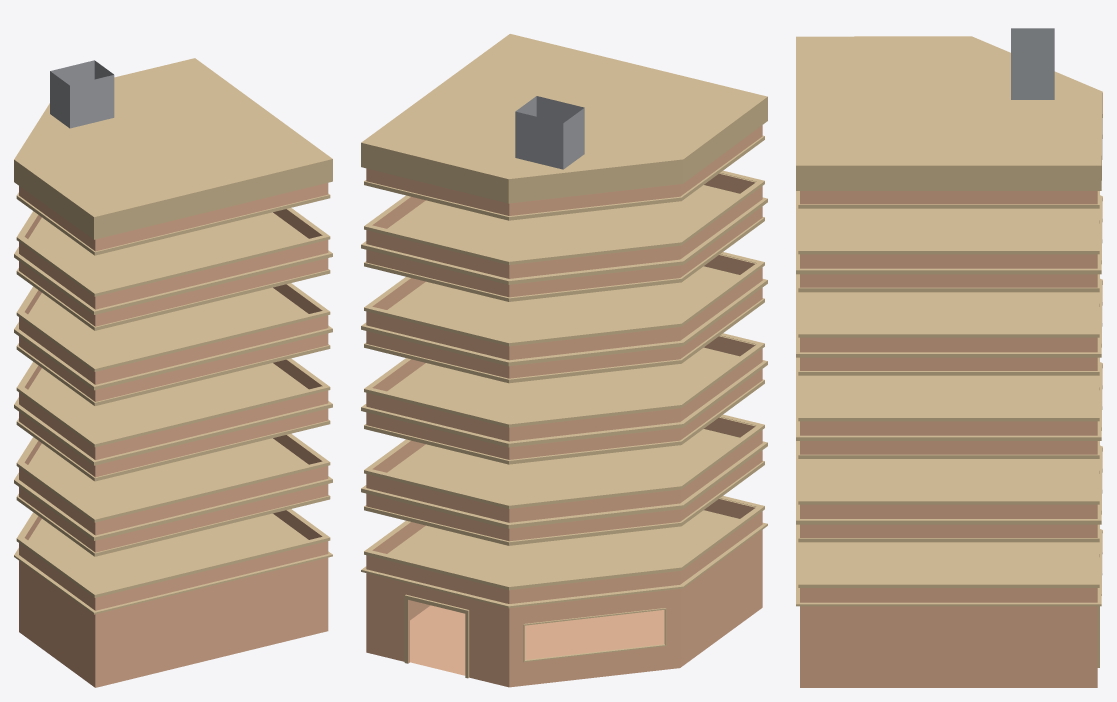
The model's file is Bld_R_high_L1_B.fbx.
The picture shows the model from 3 angles, left to right: view 1: azimuth 30°, elevation 25°; view 2: azimuth 150°, elevation 25°; view 3: azimuth 270°, elevation 25°; orthographic projection. The views are drawn at different scales.
Visible parts, largest first — view 1: Bld_R_high_L1_B_LOD0; view 2: Bld_R_high_L1_B_LOD0; view 3: Bld_R_high_L1_B_LOD0.
Part boxes in pixels (x1,y1,x2,y2): Bld_R_high_L1_B_LOD0: (14, 58, 332, 687); Bld_R_high_L1_B_LOD0: (361, 34, 767, 687); Bld_R_high_L1_B_LOD0: (796, 28, 1102, 687).
Size of what is drawn, in the model's own units: 1400 by 3198 by 1400.
1 material, 1 textured.
